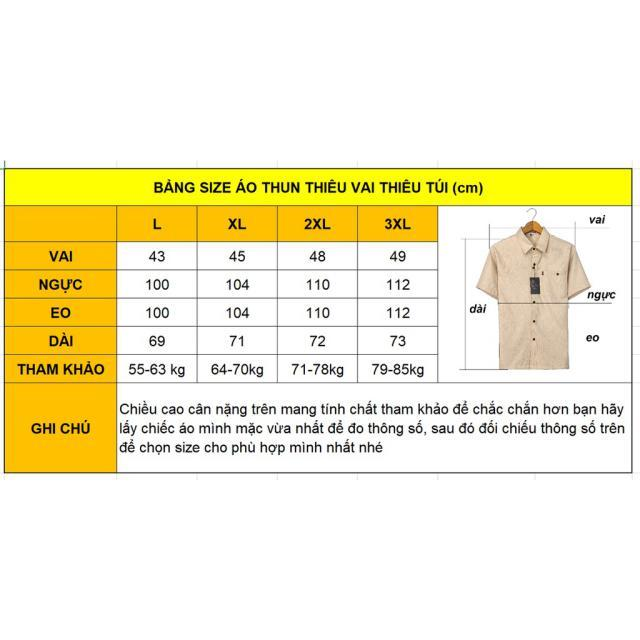Shirt: (480, 225, 588, 374)
